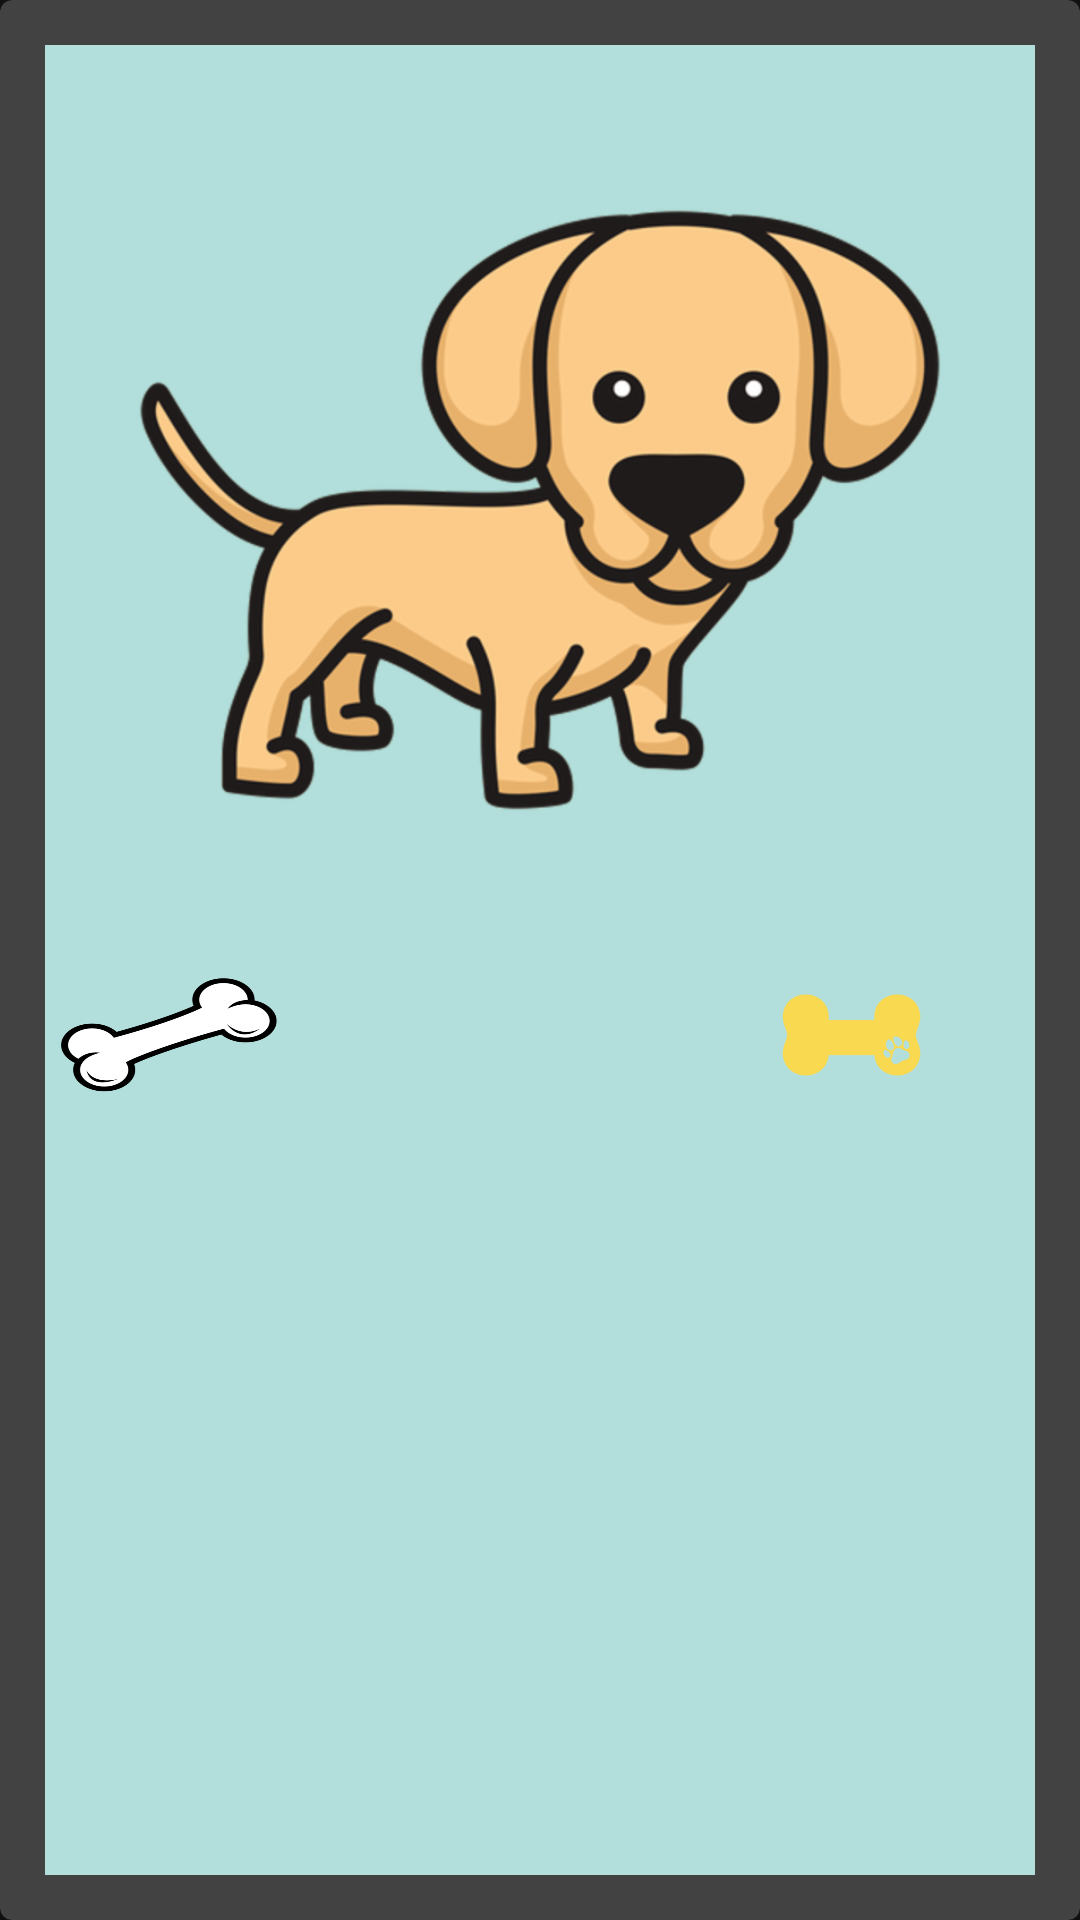

Named icons in this screenshot (1080w x 1920h) and their bounding boxes, bbox=[x1, y1, x2, y2]:
amarillo: bbox=[782, 994, 921, 1076]
blanco: bbox=[61, 978, 277, 1092]
